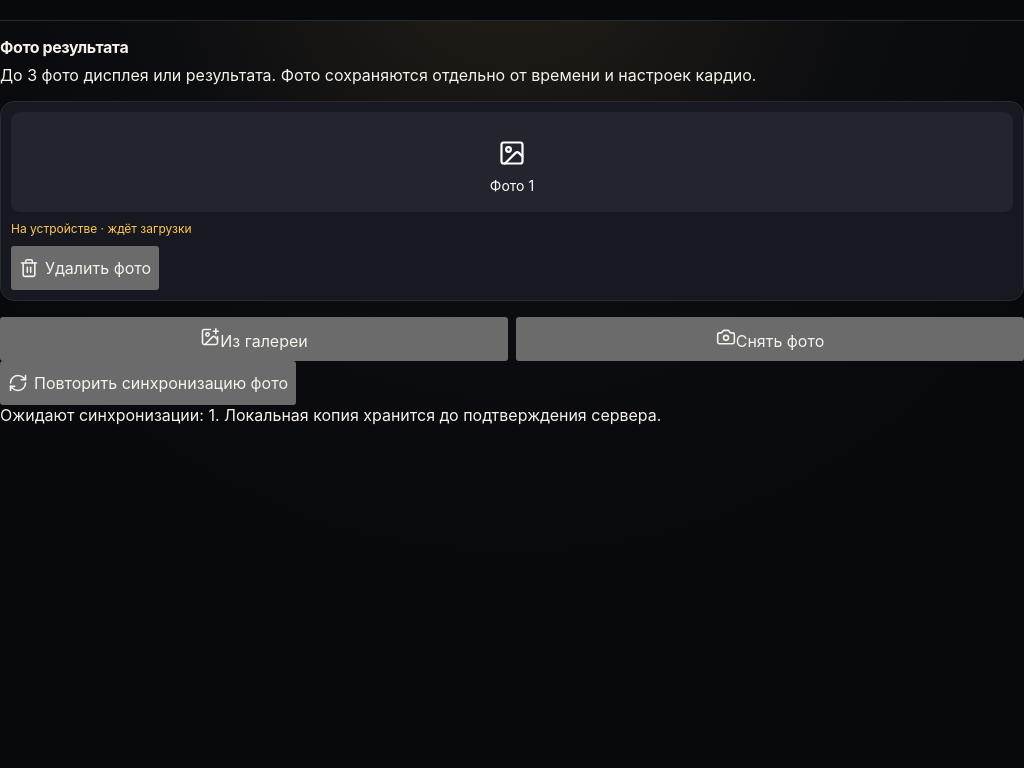
CardioResultPhoto › asks before deletion, allows cancellation, and keeps an offline tombstone visible
This screenshot has width=1024, height=768.
Expected: the button "Из галереи" is enabled, [0,317,508,361]
Click the button with aria-label "Удалить фото 1": click(85, 268) [11,246,159,290]
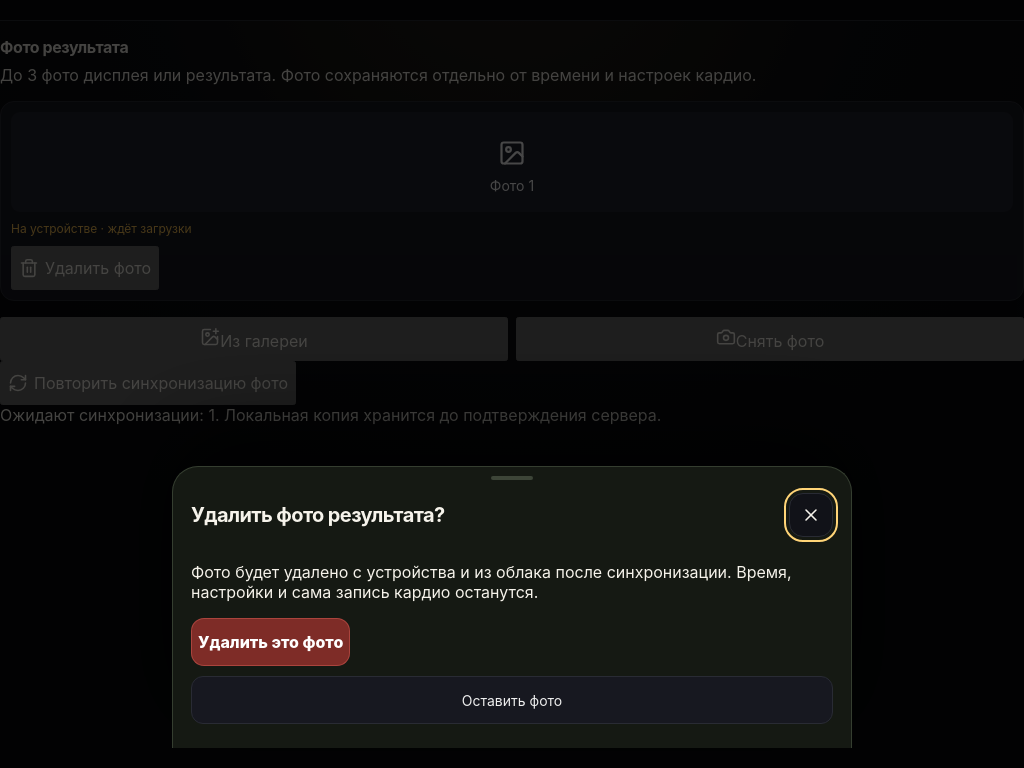
Click the button "Оставить фото": click(512, 700) [191,676,833,724]
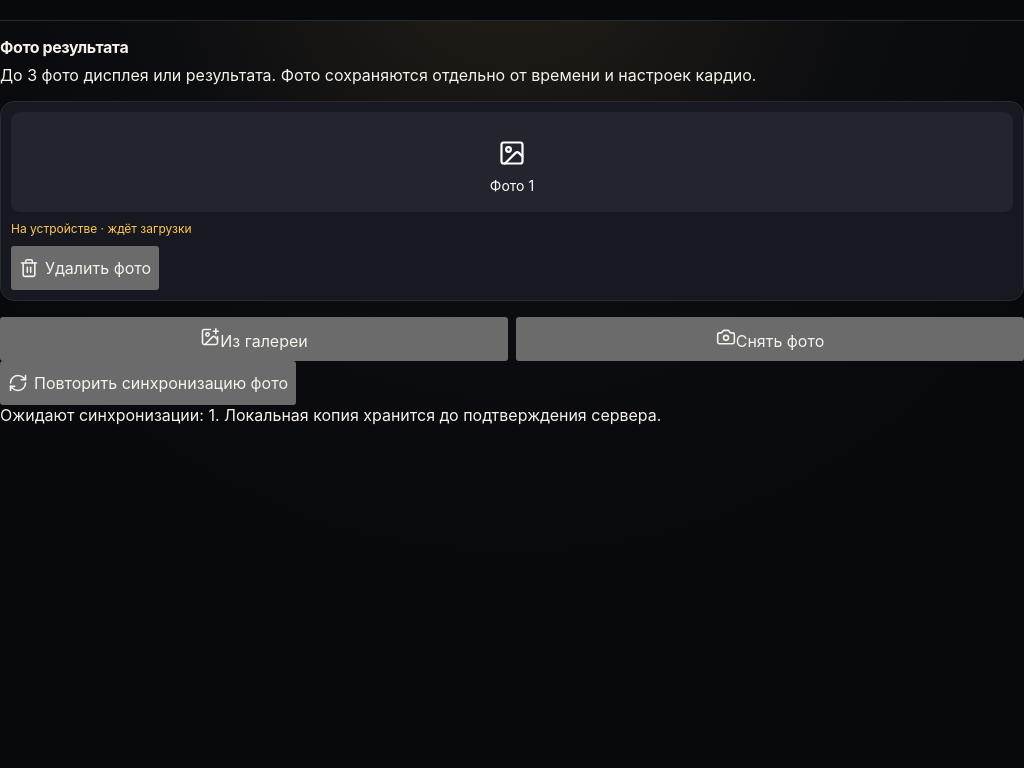
Click the button with aria-label "Удалить фото 1": click(85, 268) [11,246,159,290]
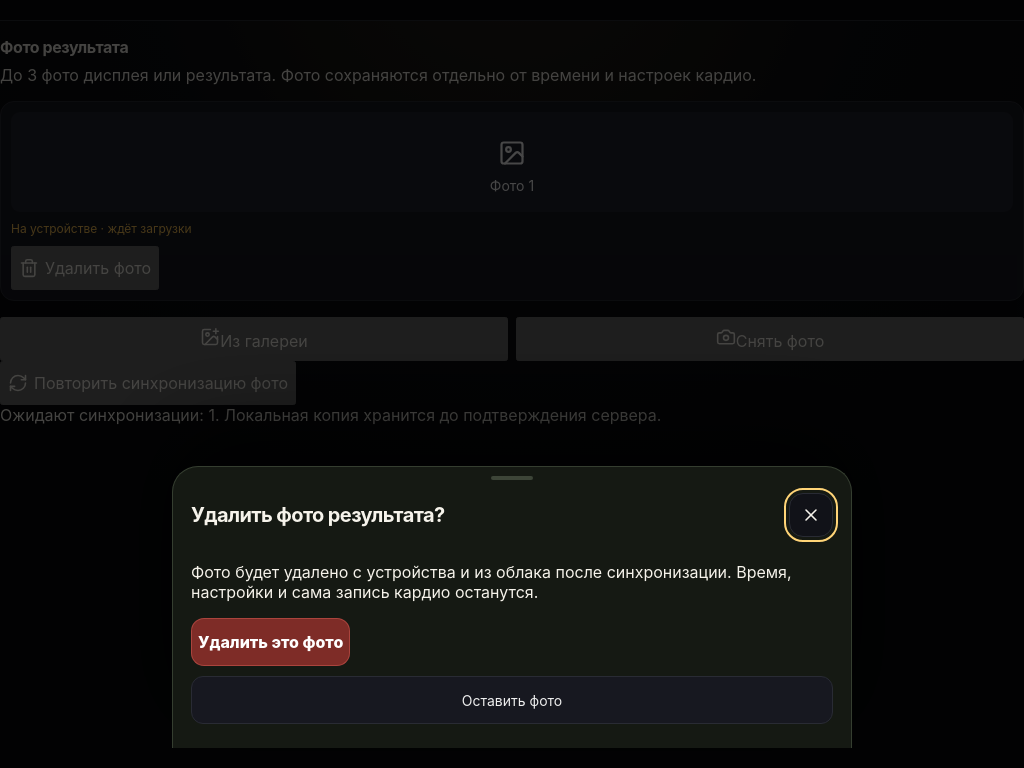
Click the button "Удалить это фото": click(271, 642) [191,618,350,666]
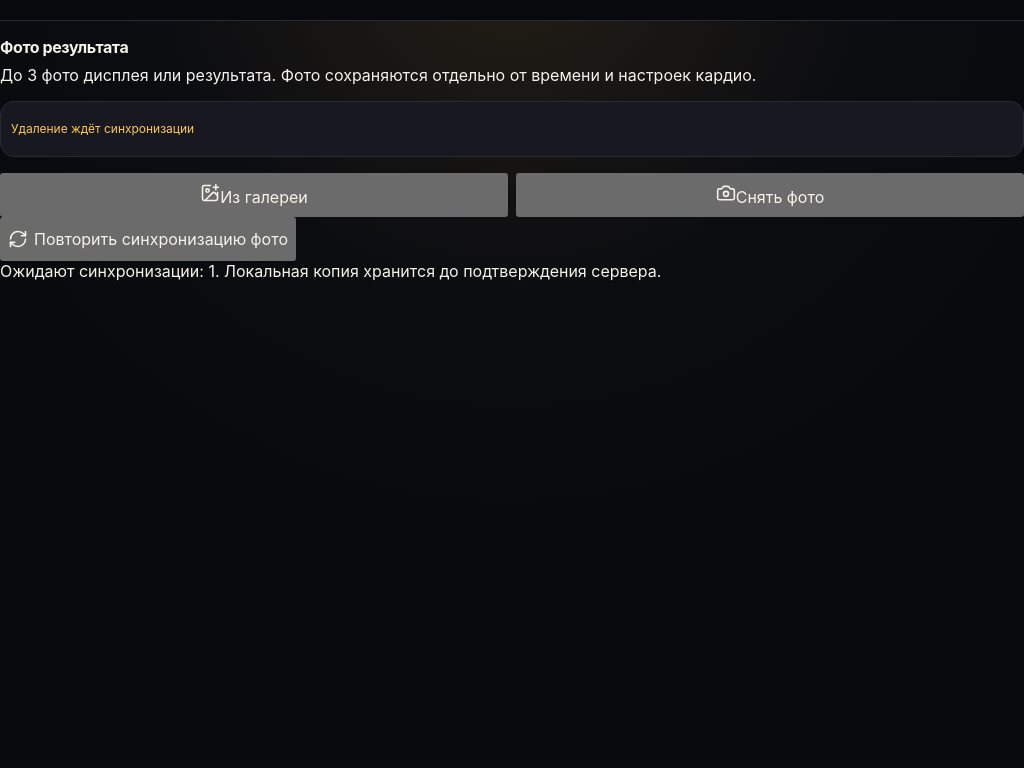
Now the text "Удаление ждёт синхронизации" is shown, box [11,121,194,136]
